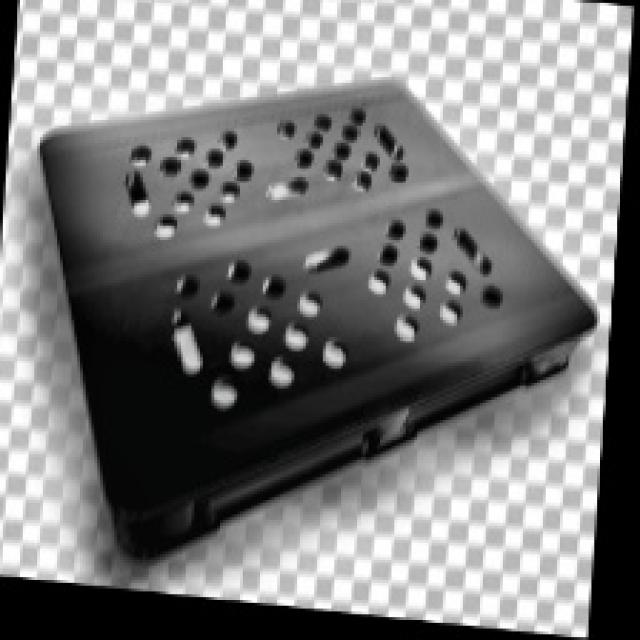igps: (34, 68, 599, 572)
